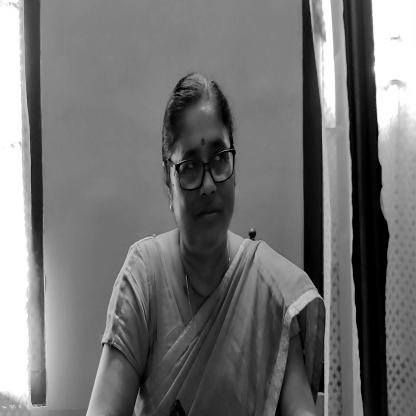Normal: (160, 88, 241, 255)
